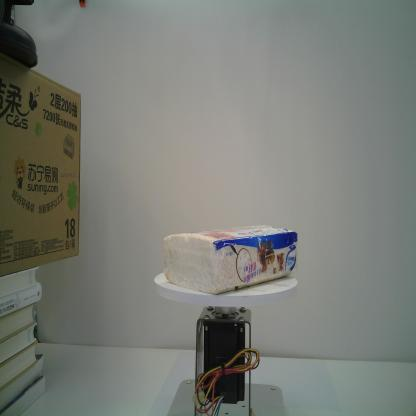Tissue: (163, 225, 298, 296)
